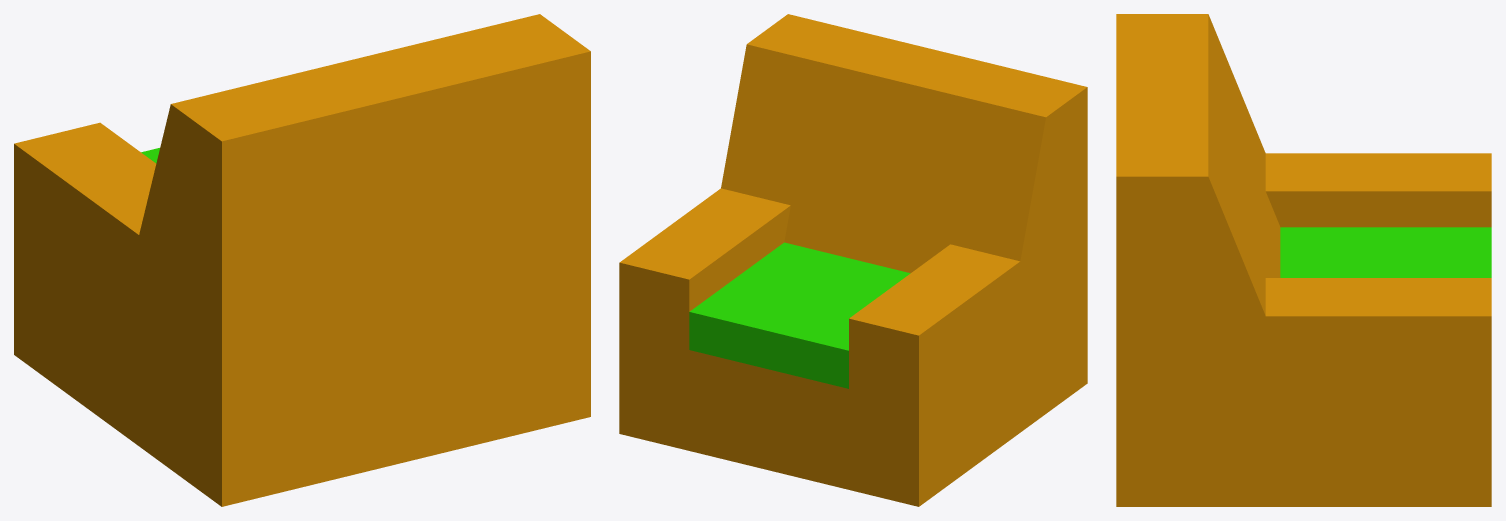
File: SofaSmall.fbx
3 renders of one model, left to right at view 1: azimuth 30°, elevation 25°; view 2: azimuth 150°, elevation 25°; view 3: azimuth 270°, elevation 25°, orthographic. The views are drawn at different scales.
Parts seen in each view (by area): view 1: Cube.019; view 2: Cube.019; view 3: Cube.019.
Boxes of the visible parts, <box> form: Cube.019: <box>14,14,590,506</box>; Cube.019: <box>619,14,1087,506</box>; Cube.019: <box>1116,14,1491,506</box>.
Size of the model in its own units: 22.52 by 21.31 by 21.96.
